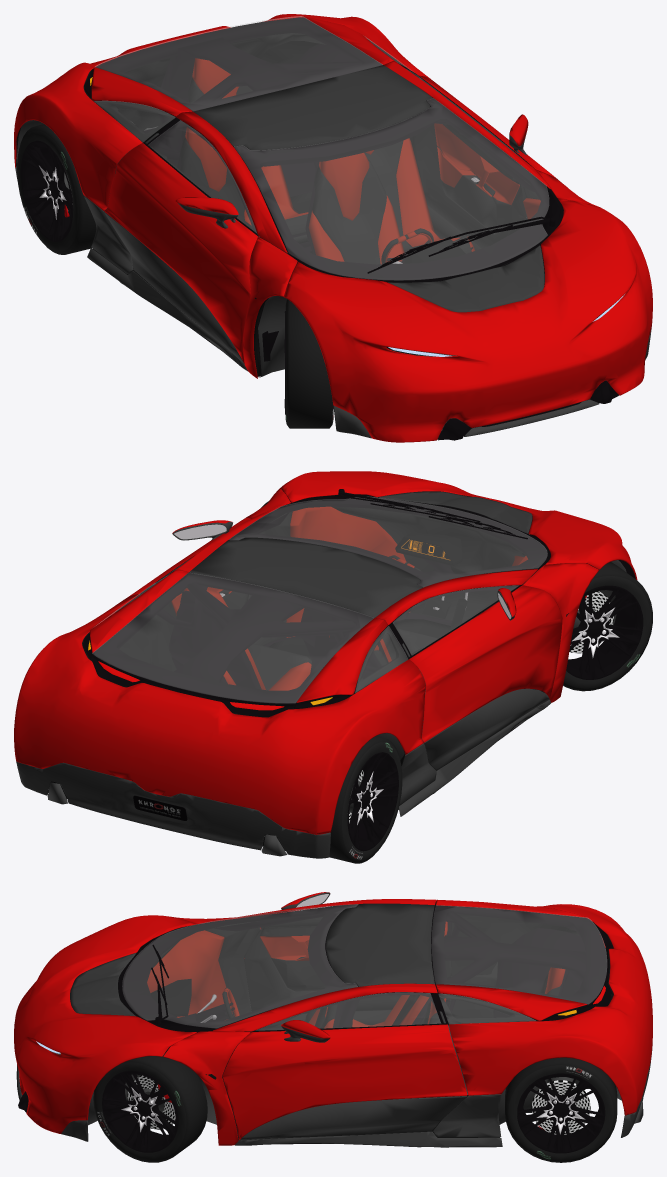
Rendered from car.glb.
3 views of the same model, one above another, from view 1: azimuth 30°, elevation 25°; view 2: azimuth 150°, elevation 25°; view 3: azimuth 270°, elevation 25° (orthographic). The views are drawn at different scales.
Visible parts, largest first — view 1: BodyRearPanelsColor1, BodyWindshield, BodyWindshieldGasket, BodyRoofPanel, BodyWindowsRearSides, InteriorDashSides, InteriorSeatsColor2, InteriorDoorL01, InteriorRearHatch, BodyHoodTopgrill, WheelFrontR, InteriorRearPanels (+10 smaller); view 2: BodyRearPanelsColor1, BodyWindowsRearSides, BodyRoofPanel, BodyWindshieldGasket, BodyWindshield, InteriorRearHatch, InteriorDashMid, WheelFrontRRim, InteriorDashSides, BodyDoorRColor2, WheelRearRRim, BodyDoorRWindow (+11 smaller); view 3: BodyRearPanelsColor1, BodyWindshield, BodyWindshieldGasket, BodyWindowsRearSides, BodyRoofPanel, BodyDoorLColor2, InteriorRearHatch, InteriorDashSides, InteriorDoorR01, WheelFrontL, WheelRearLRim, WheelFrontLRim (+13 smaller).
Part boxes in pixels (x1,y1,x2,y2): BodyRearPanelsColor1: (14,14,652,442); BodyWindshield: (234,98,548,280); BodyWindshieldGasket: (16,37,618,439); BodyRoofPanel: (15,65,651,438); BodyWindowsRearSides: (94,16,411,141); InteriorDashSides: (185,58,540,349); InteriorSeatsColor2: (180,77,471,264); InteriorDoorL01: (409,78,526,248); InteriorRearHatch: (84,17,382,118); BodyHoodTopgrill: (388,245,544,312); WheelFrontR: (285,299,333,428); InteriorRearPanels: (16,33,420,209); BodyRearPanelsColor1: (14,471,637,834); BodyWindowsRearSides: (92,573,407,703); BodyRoofPanel: (16,537,550,858); BodyWindshieldGasket: (52,489,627,782); BodyWindshield: (229,496,547,587); InteriorRearHatch: (82,573,385,717); InteriorDashMid: (331,502,528,622); WheelFrontRRim: (566,585,643,679); InteriorDashSides: (184,506,527,690); BodyDoorRColor2: (402,591,549,769); WheelRearRRim: (347,752,398,851); BodyDoorRWindow: (393,585,518,654); BodyRearPanelsColor1: (14,899,652,1145); BodyWindshield: (122,904,357,1028); BodyWindshieldGasket: (19,903,613,1144); BodyWindowsRearSides: (432,905,606,1023); BodyRoofPanel: (16,903,652,1147); BodyDoorLColor2: (240,1011,466,1140); InteriorRearHatch: (432,905,612,1020); InteriorDashSides: (147,921,565,1028); InteriorDoorR01: (244,917,451,1013); WheelFrontL: (93,1054,207,1162); WheelRearLRim: (517,1073,605,1153); WheelFrontLRim: (102,1070,178,1152).
Bounding box in the file's own units: 2.54 × 1.15 × 4.36.
Materials: 23 (6 with a texture image).
